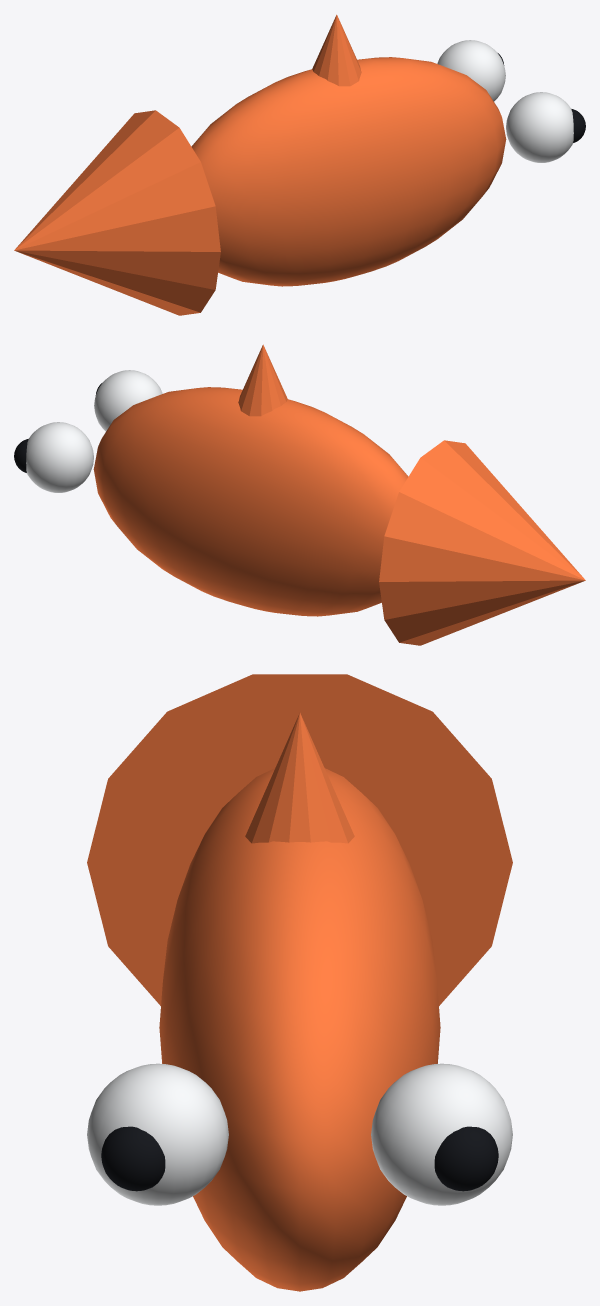
File: fish.glb
3 renders of one model, top to bottom at view 1: azimuth 30°, elevation 25°; view 2: azimuth 150°, elevation 25°; view 3: azimuth 270°, elevation 25°, orthographic. The views are drawn at different scales.
Visible parts, largest first — view 1: Sphere, Sphere.001; view 2: Sphere, Sphere.001; view 3: Sphere, Sphere.001, Sphere.002.
Boxes of the visible parts, box(x1,y1,x2,y2) form: Sphere: box(14, 14, 506, 315); Sphere.001: box(437, 40, 573, 162); Sphere: box(93, 344, 585, 645); Sphere.001: box(26, 370, 162, 492); Sphere: box(87, 674, 512, 1291); Sphere.001: box(87, 1063, 512, 1205); Sphere.002: box(101, 1126, 498, 1191).
Size of the model in its own units: 1.72 by 0.814 by 0.6.
